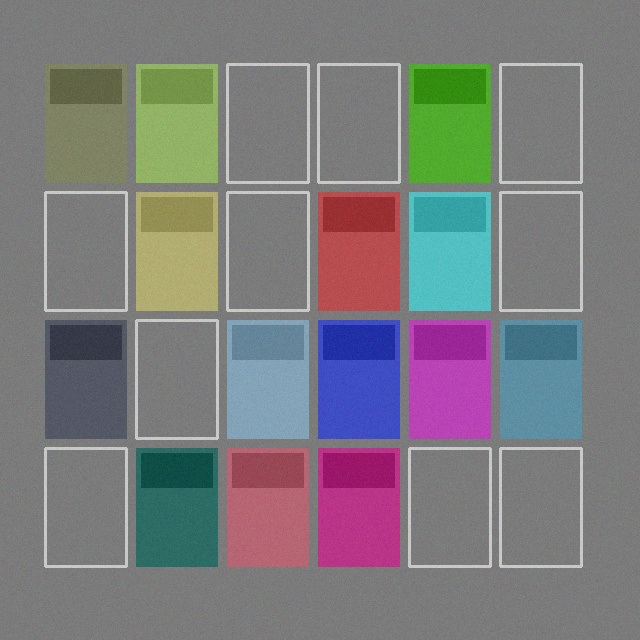space-empty: (227, 64, 308, 182), (318, 64, 399, 182), (500, 64, 581, 182), (45, 192, 126, 310), (227, 192, 308, 310), (500, 192, 581, 310), (136, 320, 217, 438), (45, 448, 126, 566), (409, 448, 490, 566), (500, 448, 581, 566)
space-occupied: (45, 64, 126, 182), (136, 64, 217, 182), (409, 64, 490, 182), (136, 192, 217, 310), (318, 192, 399, 310), (409, 192, 490, 310), (45, 320, 126, 438), (227, 320, 308, 438), (318, 320, 399, 438), (409, 320, 490, 438), (500, 320, 581, 438), (136, 448, 217, 566), (227, 448, 308, 566), (318, 448, 399, 566)
